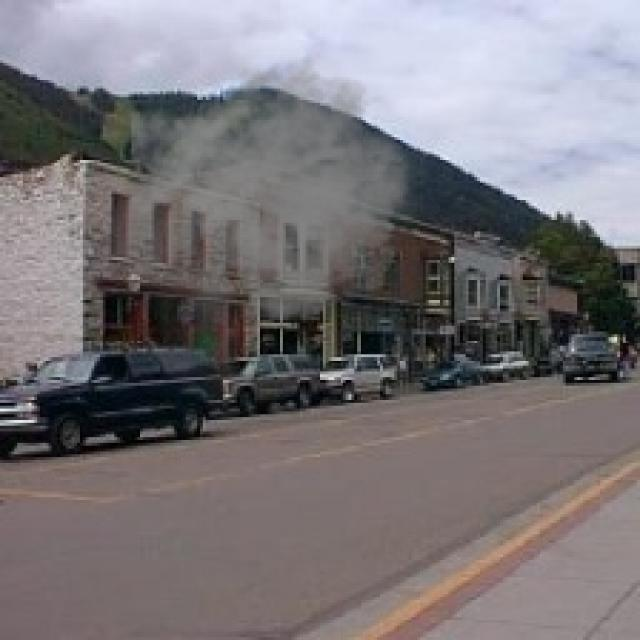smoke: (89, 57, 434, 414)
